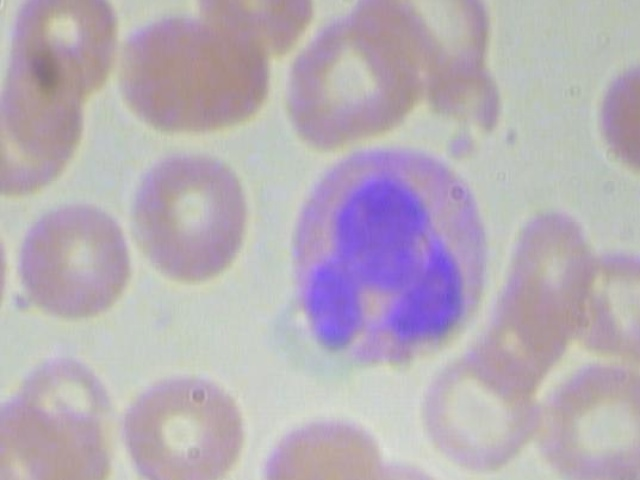RBC: (281, 16, 445, 151), (114, 1, 278, 135), (418, 335, 548, 478), (125, 149, 254, 292), (12, 190, 141, 333), (114, 359, 244, 480), (0, 0, 126, 111), (536, 355, 640, 480), (260, 399, 389, 480), (0, 395, 104, 480), (594, 49, 640, 180), (337, 437, 466, 480)
WBC: (279, 141, 499, 378)
